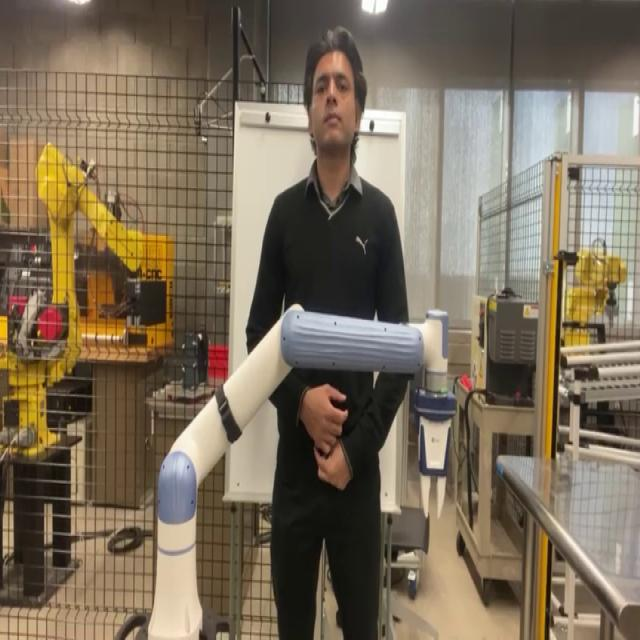robot: (114, 298, 428, 638)
